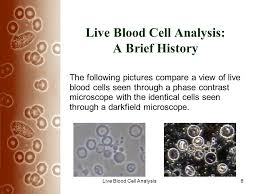Malaria: (219, 124, 235, 138), (128, 124, 143, 138), (204, 151, 218, 164), (187, 125, 201, 137), (216, 162, 229, 174), (177, 139, 189, 151), (184, 164, 196, 176), (75, 147, 88, 158), (113, 151, 125, 162), (168, 148, 179, 160), (193, 137, 205, 148), (97, 125, 108, 135), (93, 166, 105, 175), (86, 140, 96, 150), (102, 137, 113, 146), (194, 150, 204, 159), (127, 163, 135, 172), (96, 144, 104, 153), (104, 150, 112, 158)
